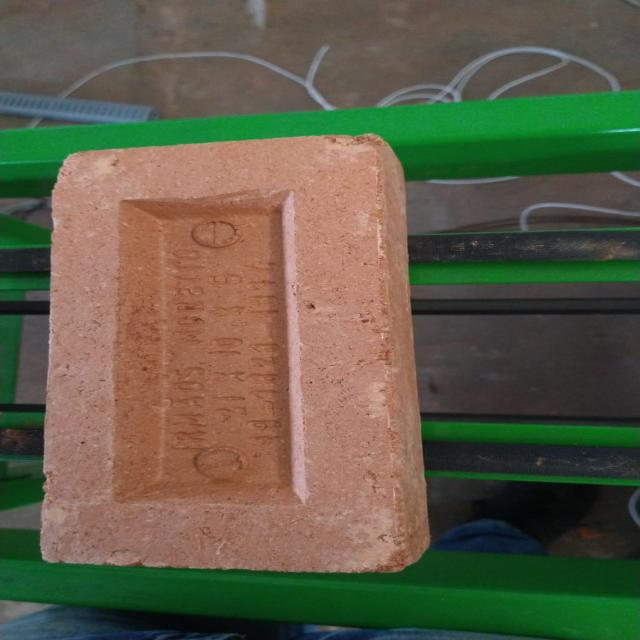bricks: (37, 132, 433, 573)
